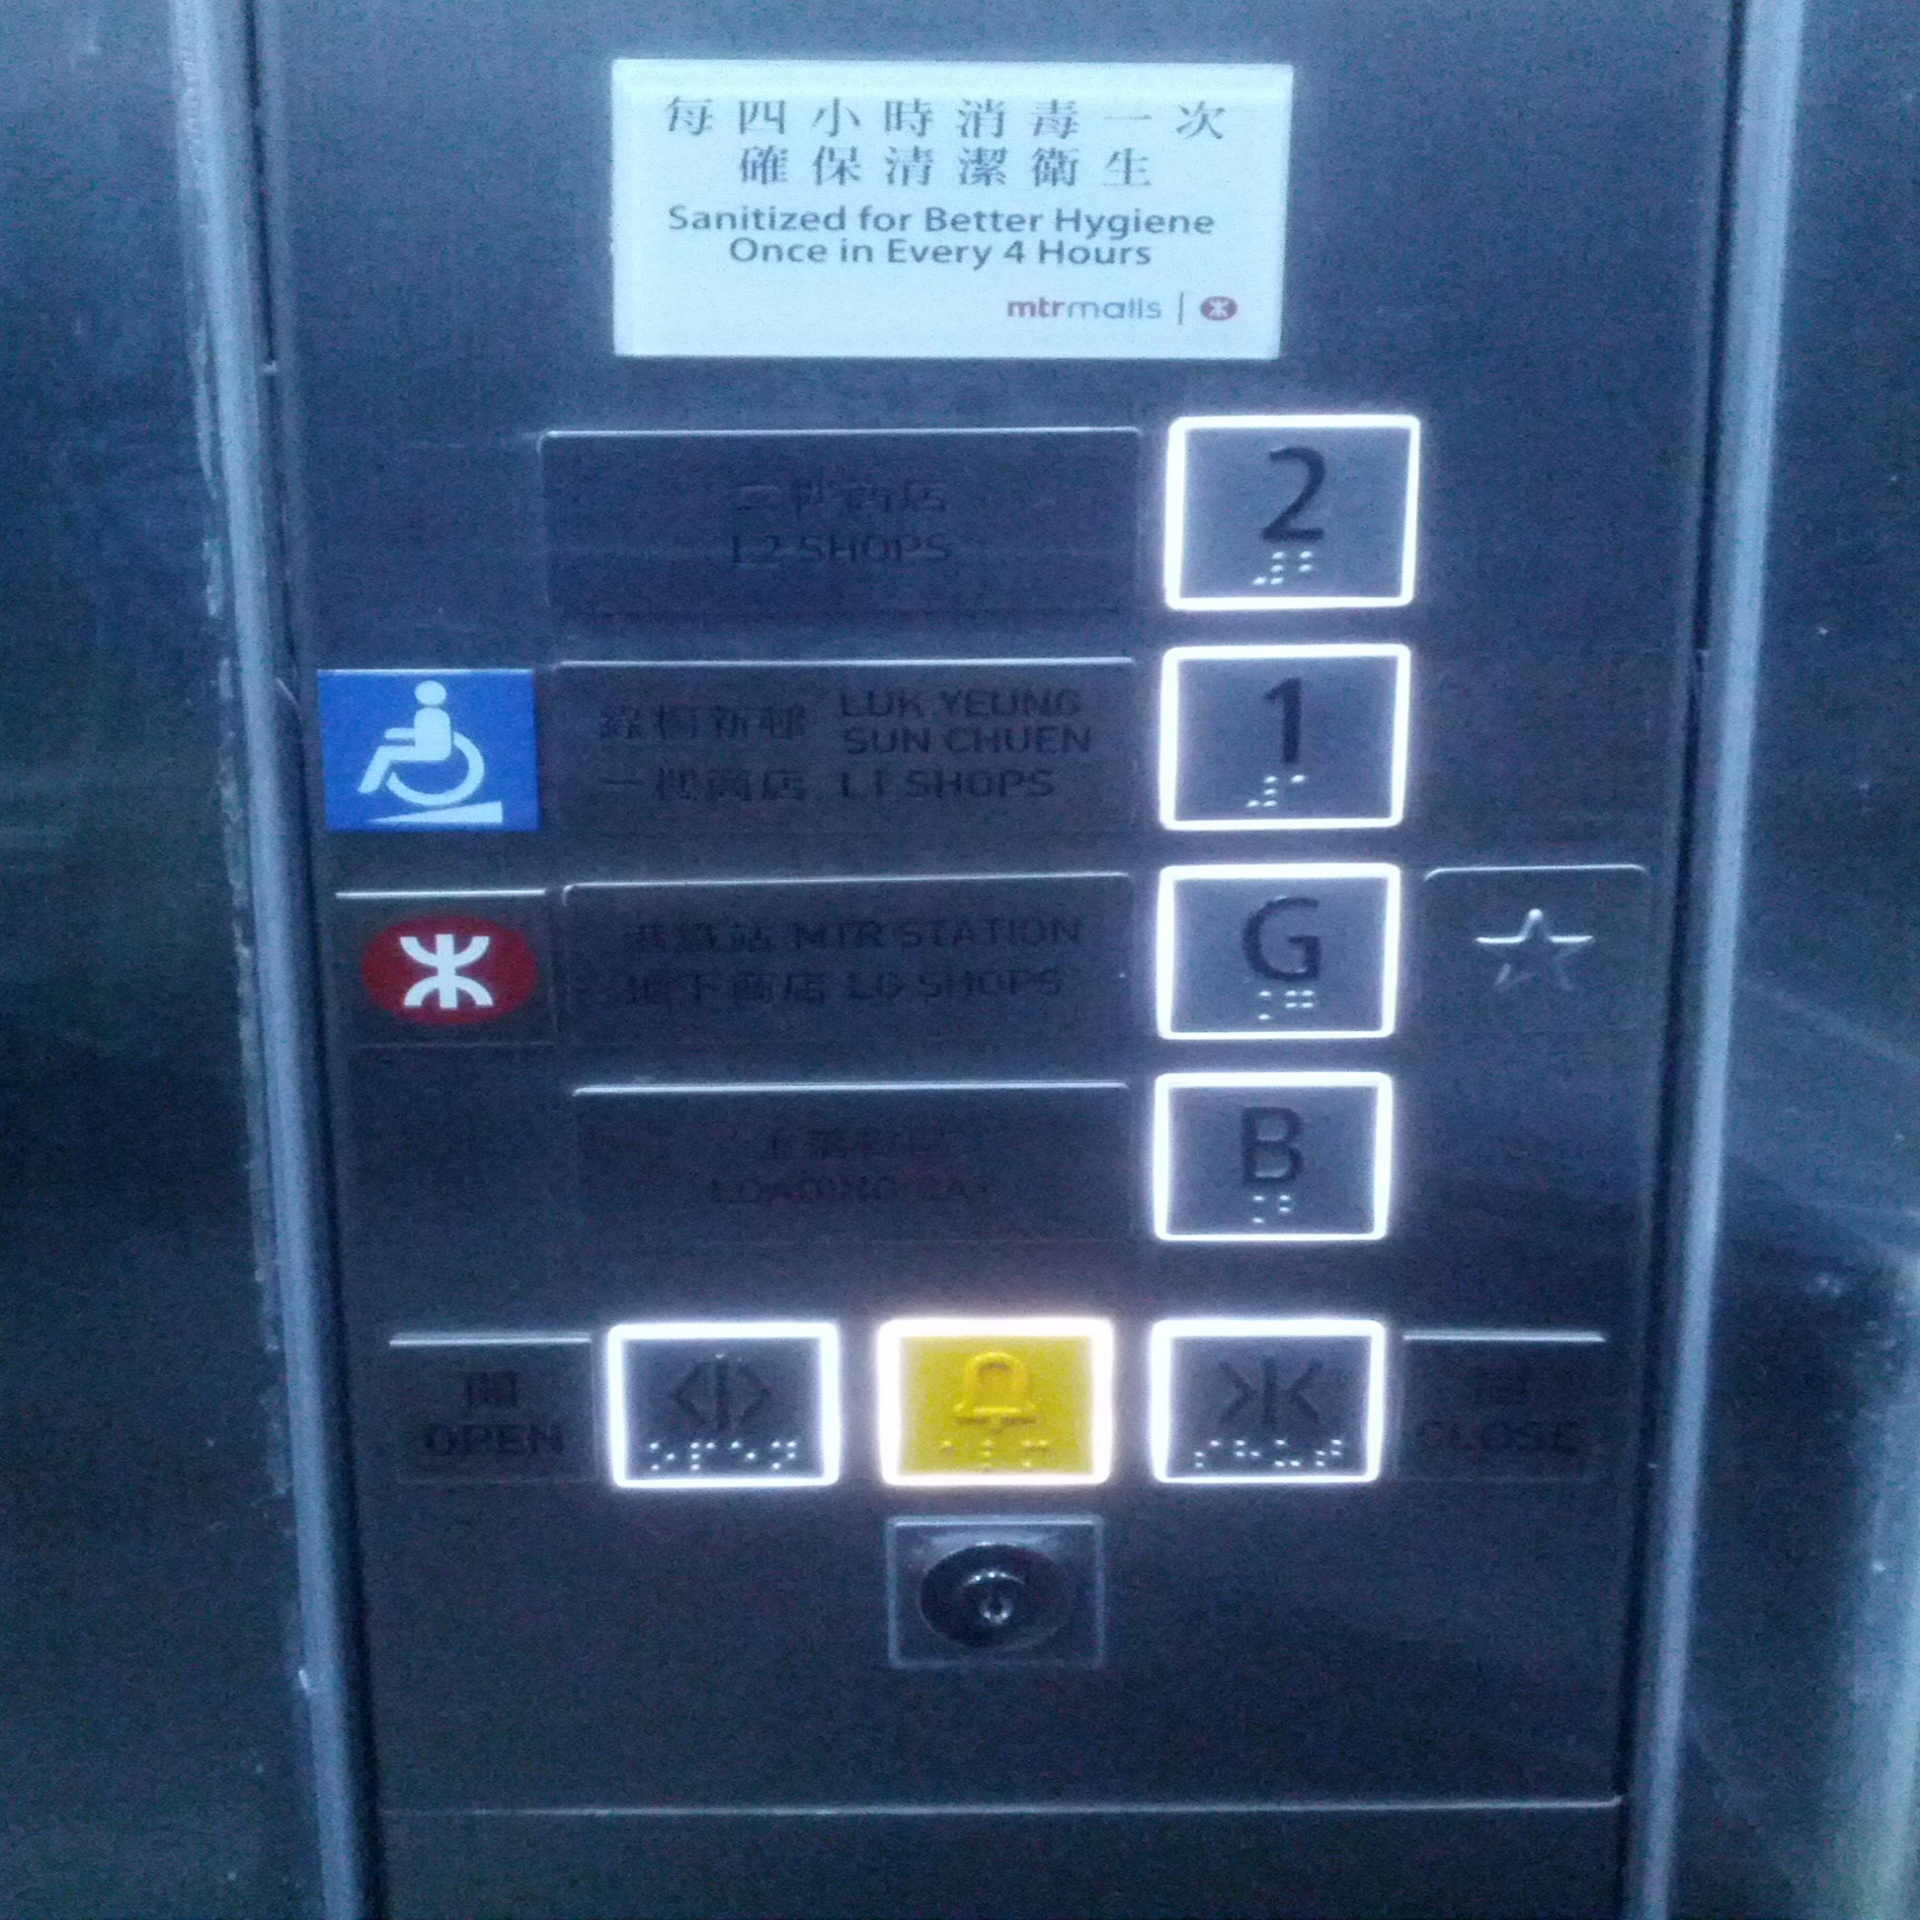1: (1160, 638, 1412, 835)
2: (1167, 411, 1421, 612)
B: (1155, 1067, 1391, 1247)
CH: (308, 668, 536, 846)
G: (1152, 862, 1400, 1046)
alarm: (870, 1320, 1118, 1493)
close: (1143, 1312, 1384, 1493)
keyhole: (879, 1514, 1099, 1670)
open: (601, 1320, 853, 1489)
s: (1415, 860, 1660, 1050)
